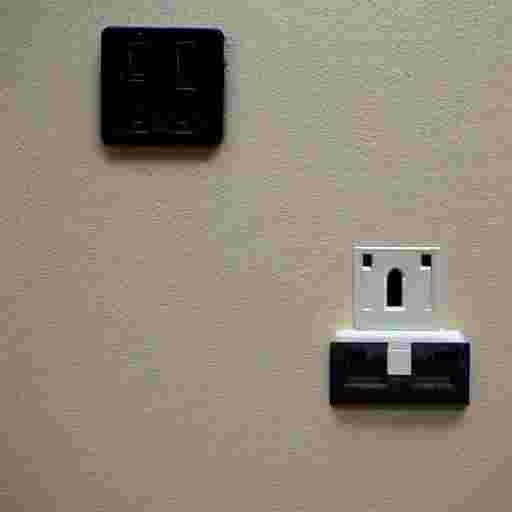power outlet: (330, 241, 470, 403), (98, 26, 224, 144), (330, 330, 469, 403), (352, 241, 446, 329)
